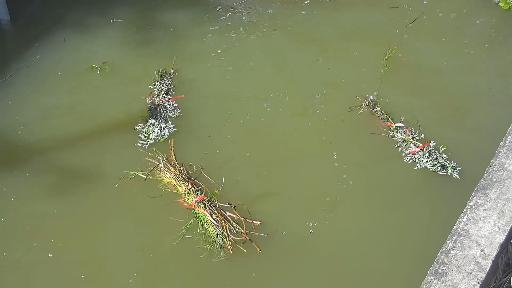leaf: (78, 52, 118, 77)
twig: (133, 139, 274, 263), (362, 37, 475, 185), (121, 48, 188, 150)
